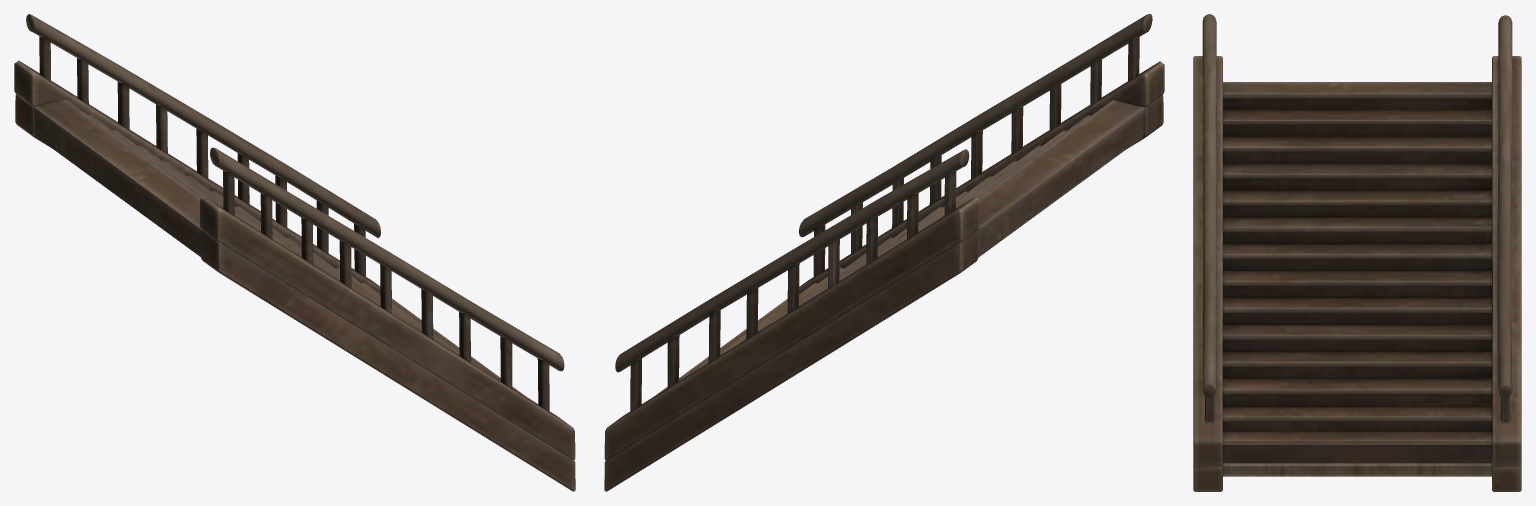
Rendered from Architecture_JapaneseStyle_Stair_0dce20.glb.
3 renders of one model, left to right at view 1: azimuth 30°, elevation 25°; view 2: azimuth 150°, elevation 25°; view 3: azimuth 270°, elevation 25°, orthographic. The views are drawn at different scales.
Bounding box in the file's own units: 4.09 × 4.6 × 4.02.
Materials: 1 (1 with a texture image).
